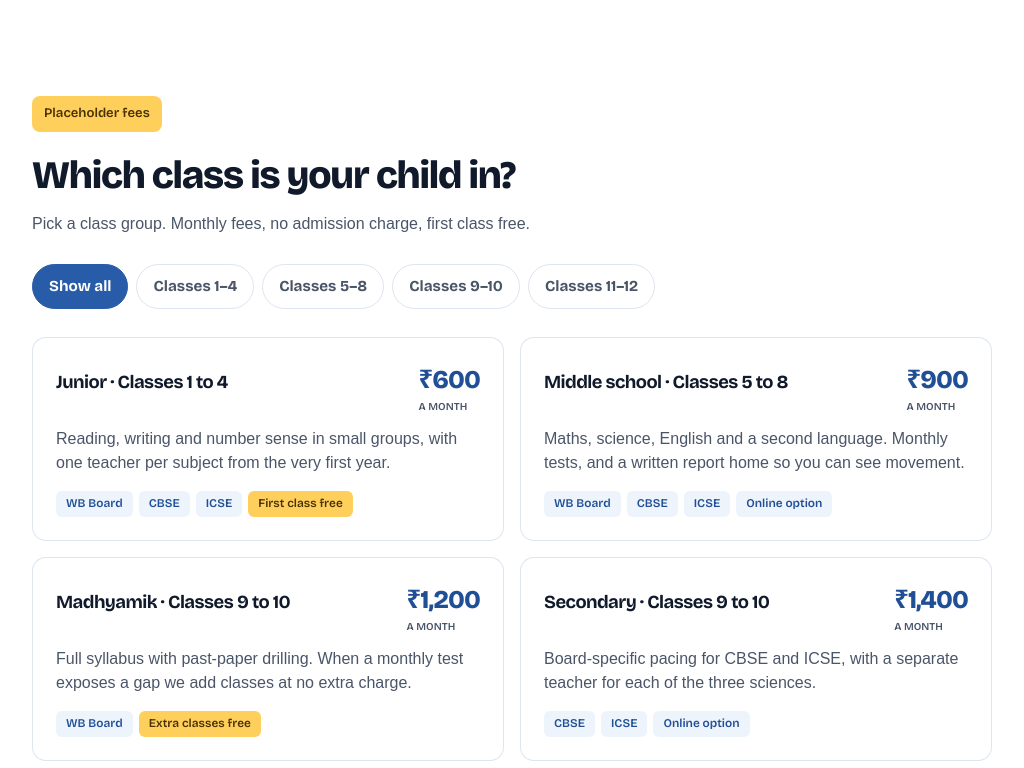
ClassPlans › narrows to the chosen class group
Click the button "Classes 9–10".
click(456, 286)  # box 392,264 -> 520,309
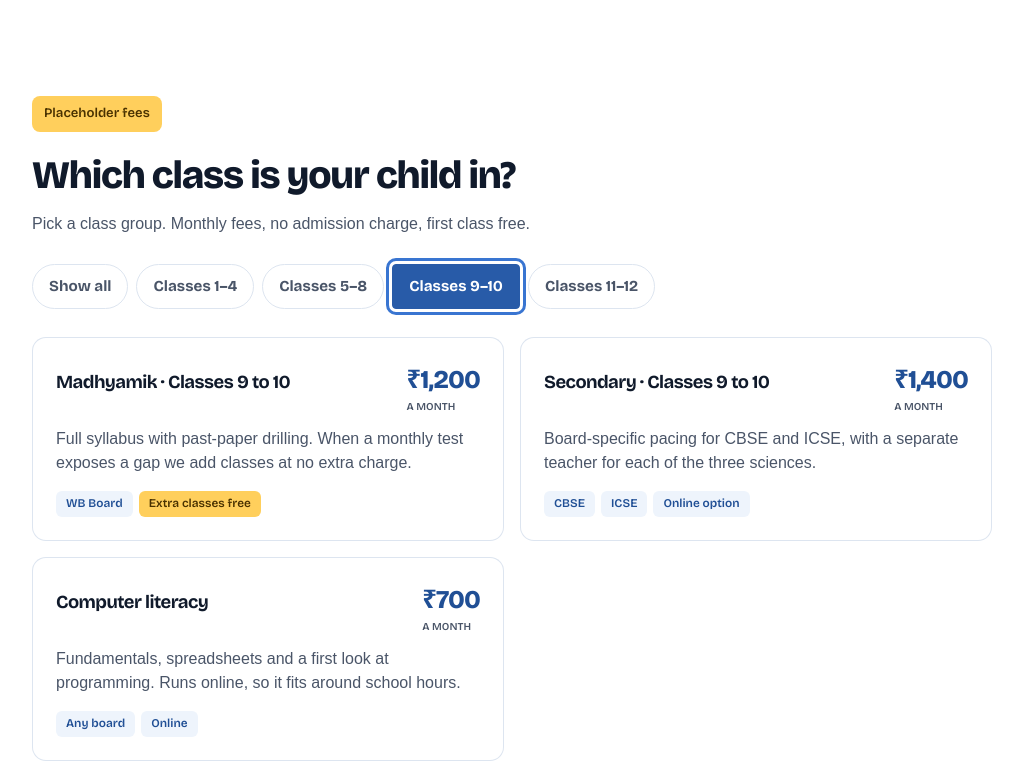
expect the heading "Madhyamik · Classes 9 to 10" is shown: met, box 56,373 -> 290,392
expect the heading "Junior · Classes 1 to 4" is gone: met
expect the heading "Middle school · Classes 5 to 8" is gone: met
